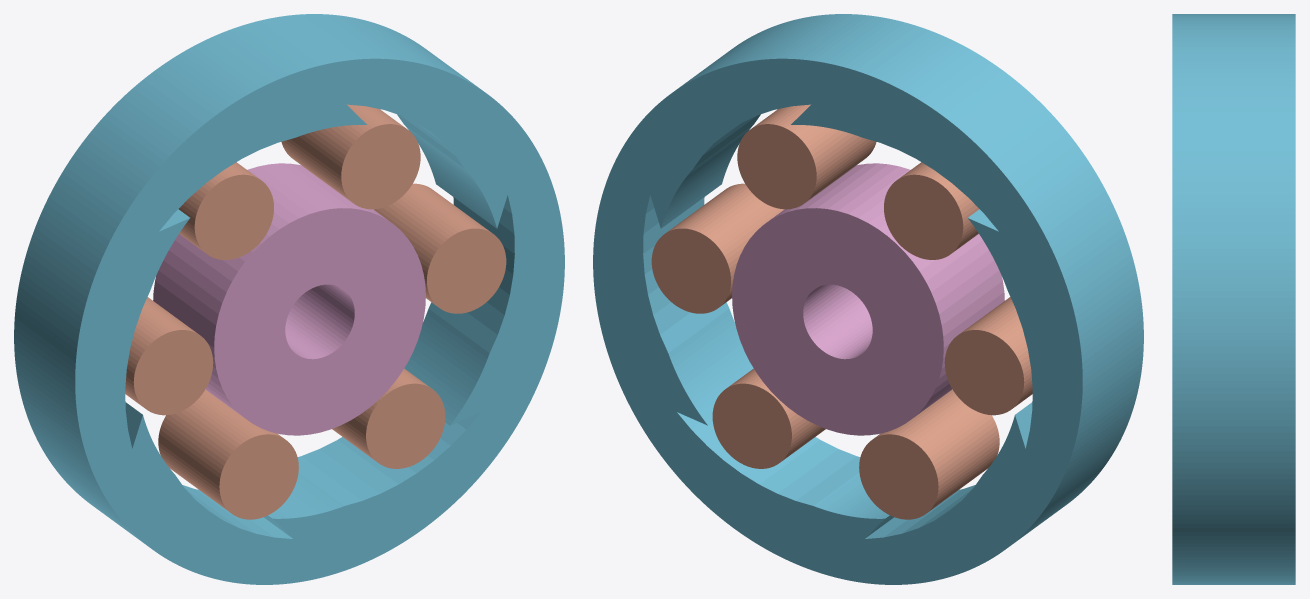
File: freewheel_clutch_demo.glb
3 views of the same model, side by side, from view 1: azimuth 30°, elevation 25°; view 2: azimuth 150°, elevation 25°; view 3: azimuth 270°, elevation 25° (orthographic).
Parts seen in each view (by area): view 1: ramp_pocket_ring, inner_hub, roller_4, roller_0, roller_1, roller_3, roller_5, roller_2; view 2: ramp_pocket_ring, inner_hub, roller_4, roller_0, roller_1, roller_3, roller_5, roller_2; view 3: ramp_pocket_ring.
Part boxes in pixels (x1,y1,x2,y2): ramp_pocket_ring: (14, 14, 564, 584); inner_hub: (153, 163, 425, 435); roller_4: (158, 389, 298, 519); roller_0: (374, 183, 506, 313); roller_1: (281, 104, 420, 209); roller_3: (125, 297, 213, 415); roller_5: (332, 368, 445, 468); roller_2: (178, 162, 273, 259); ramp_pocket_ring: (593, 14, 1143, 584); inner_hub: (732, 163, 1004, 435); roller_4: (859, 389, 999, 519); roller_0: (651, 183, 783, 313); roller_1: (737, 104, 876, 209); roller_3: (944, 297, 1032, 415); roller_5: (712, 368, 825, 468); roller_2: (884, 162, 979, 259); ramp_pocket_ring: (1172, 14, 1295, 584).
Bounding box in the file's own units: 37 × 37 × 8.
